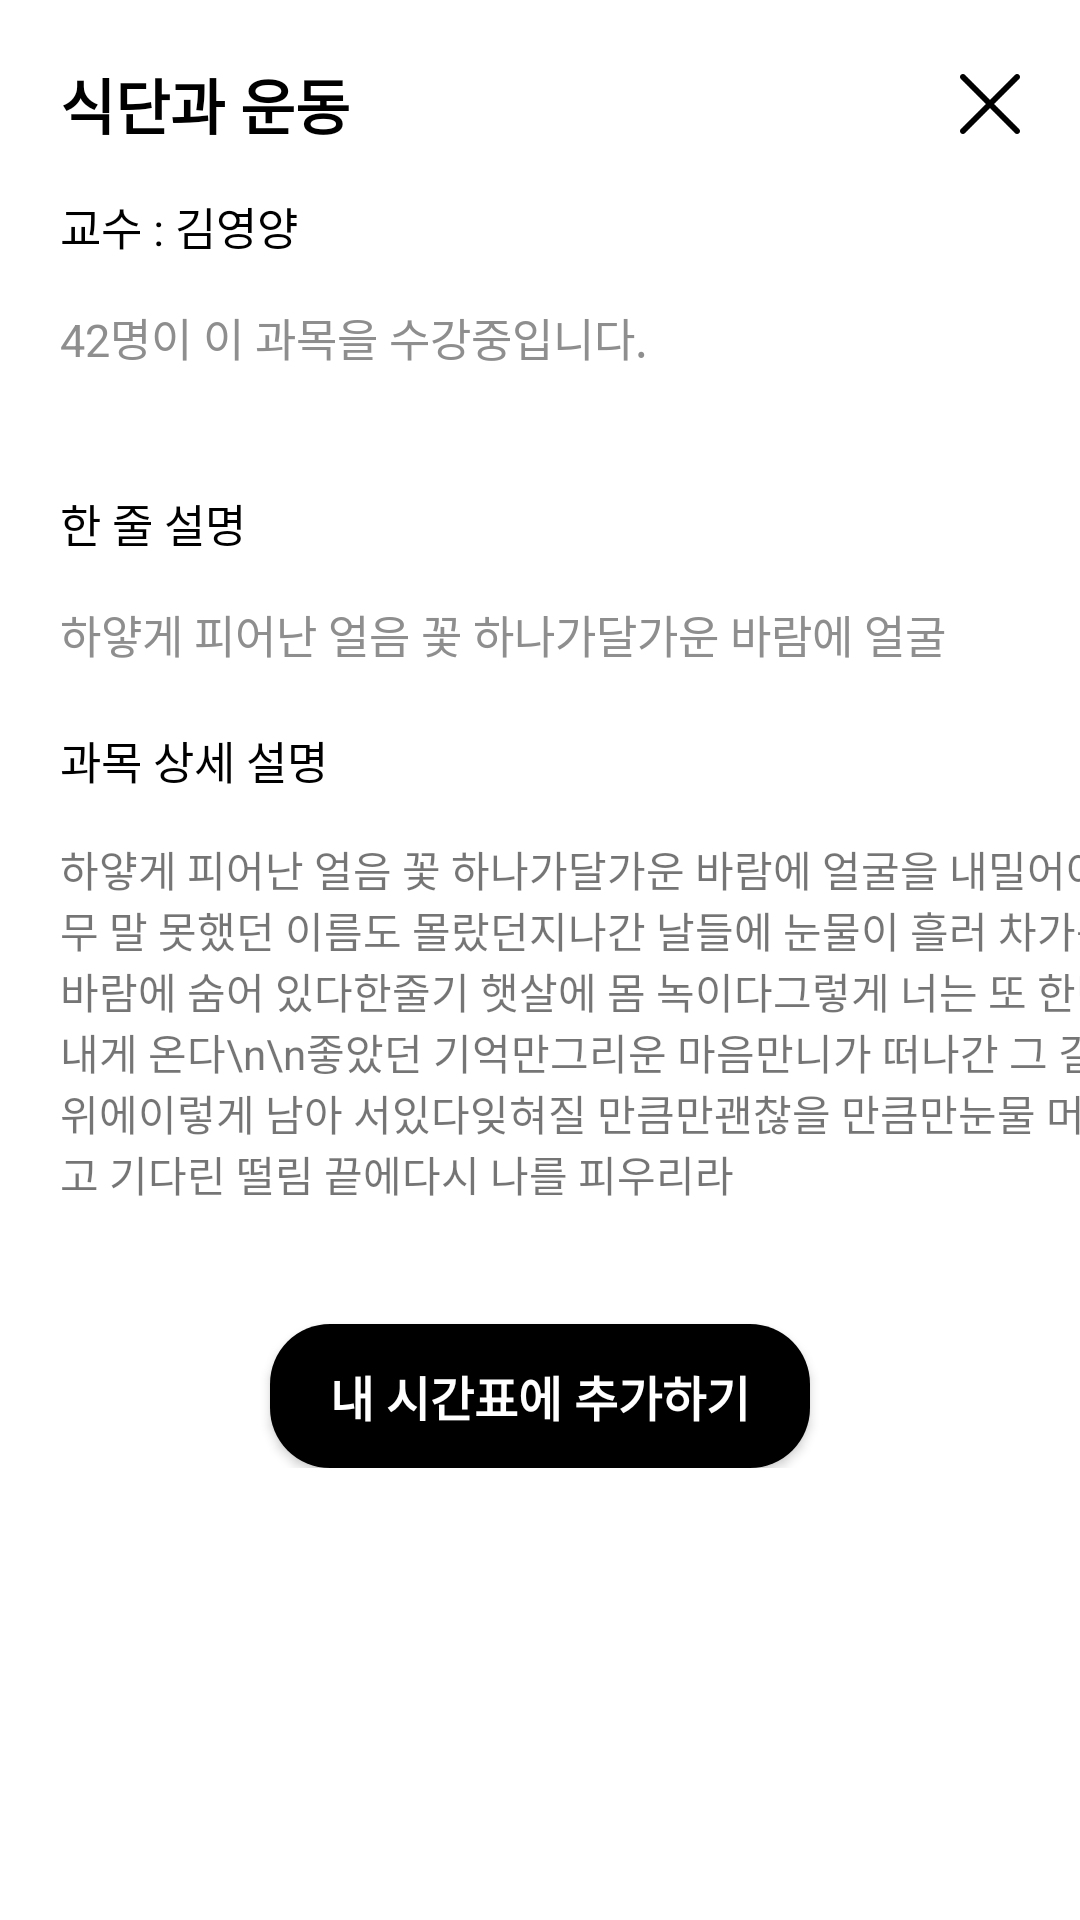

Locate icon controls on the screen. Image size 1080*1920, boxes as BBox(x1, y1, x2, y2).
close: BBox(960, 74, 1020, 134)
